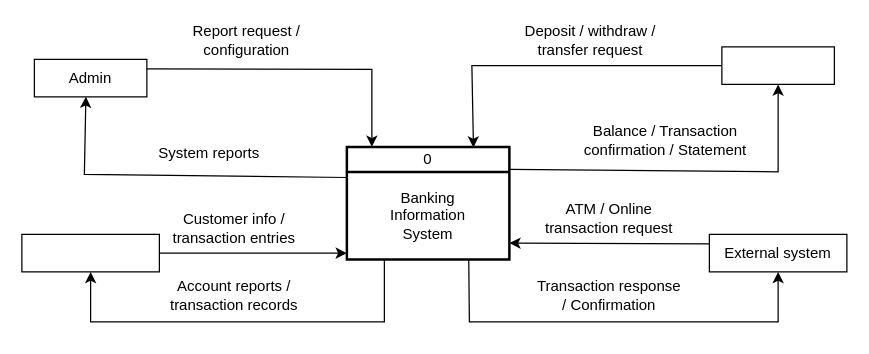
This 869x354 diagram has some shape labels left out. Each missing label, with the centre of its shape:
"Bank employee" belongs at point 90,252.
"Customer" belongs at point 777,65.
